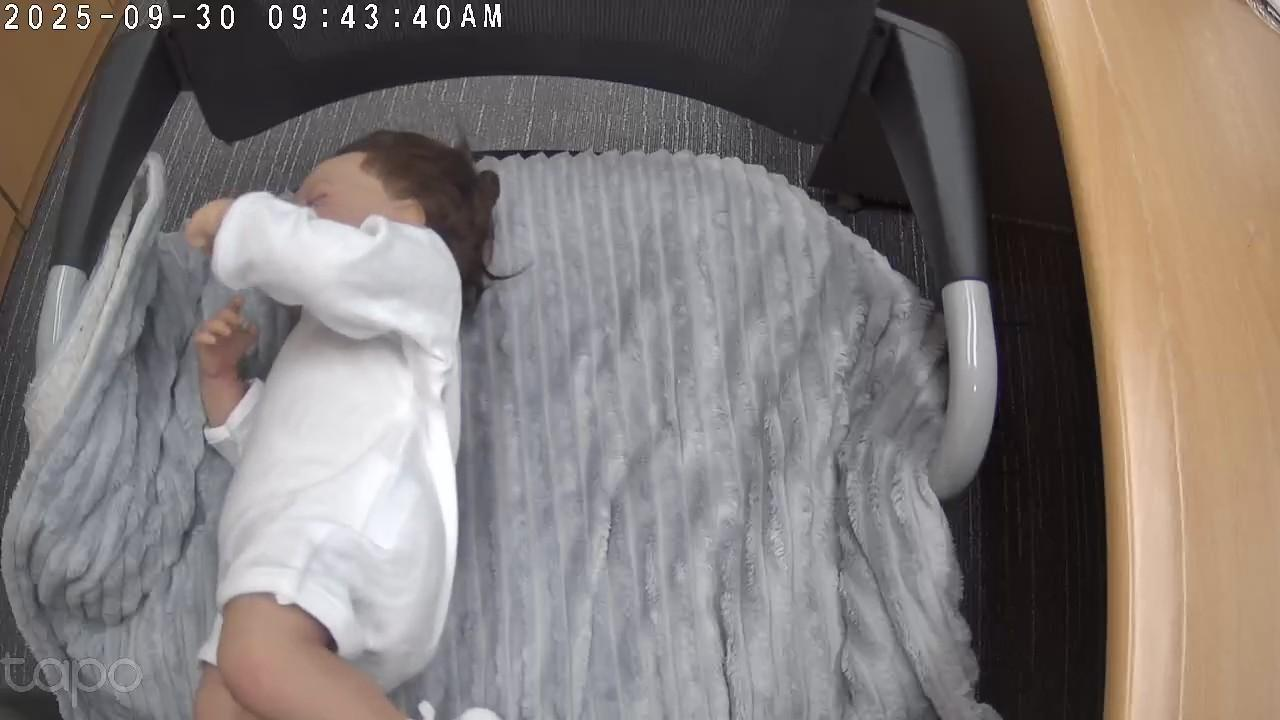hand: (192, 292, 258, 390), (185, 198, 242, 252)
